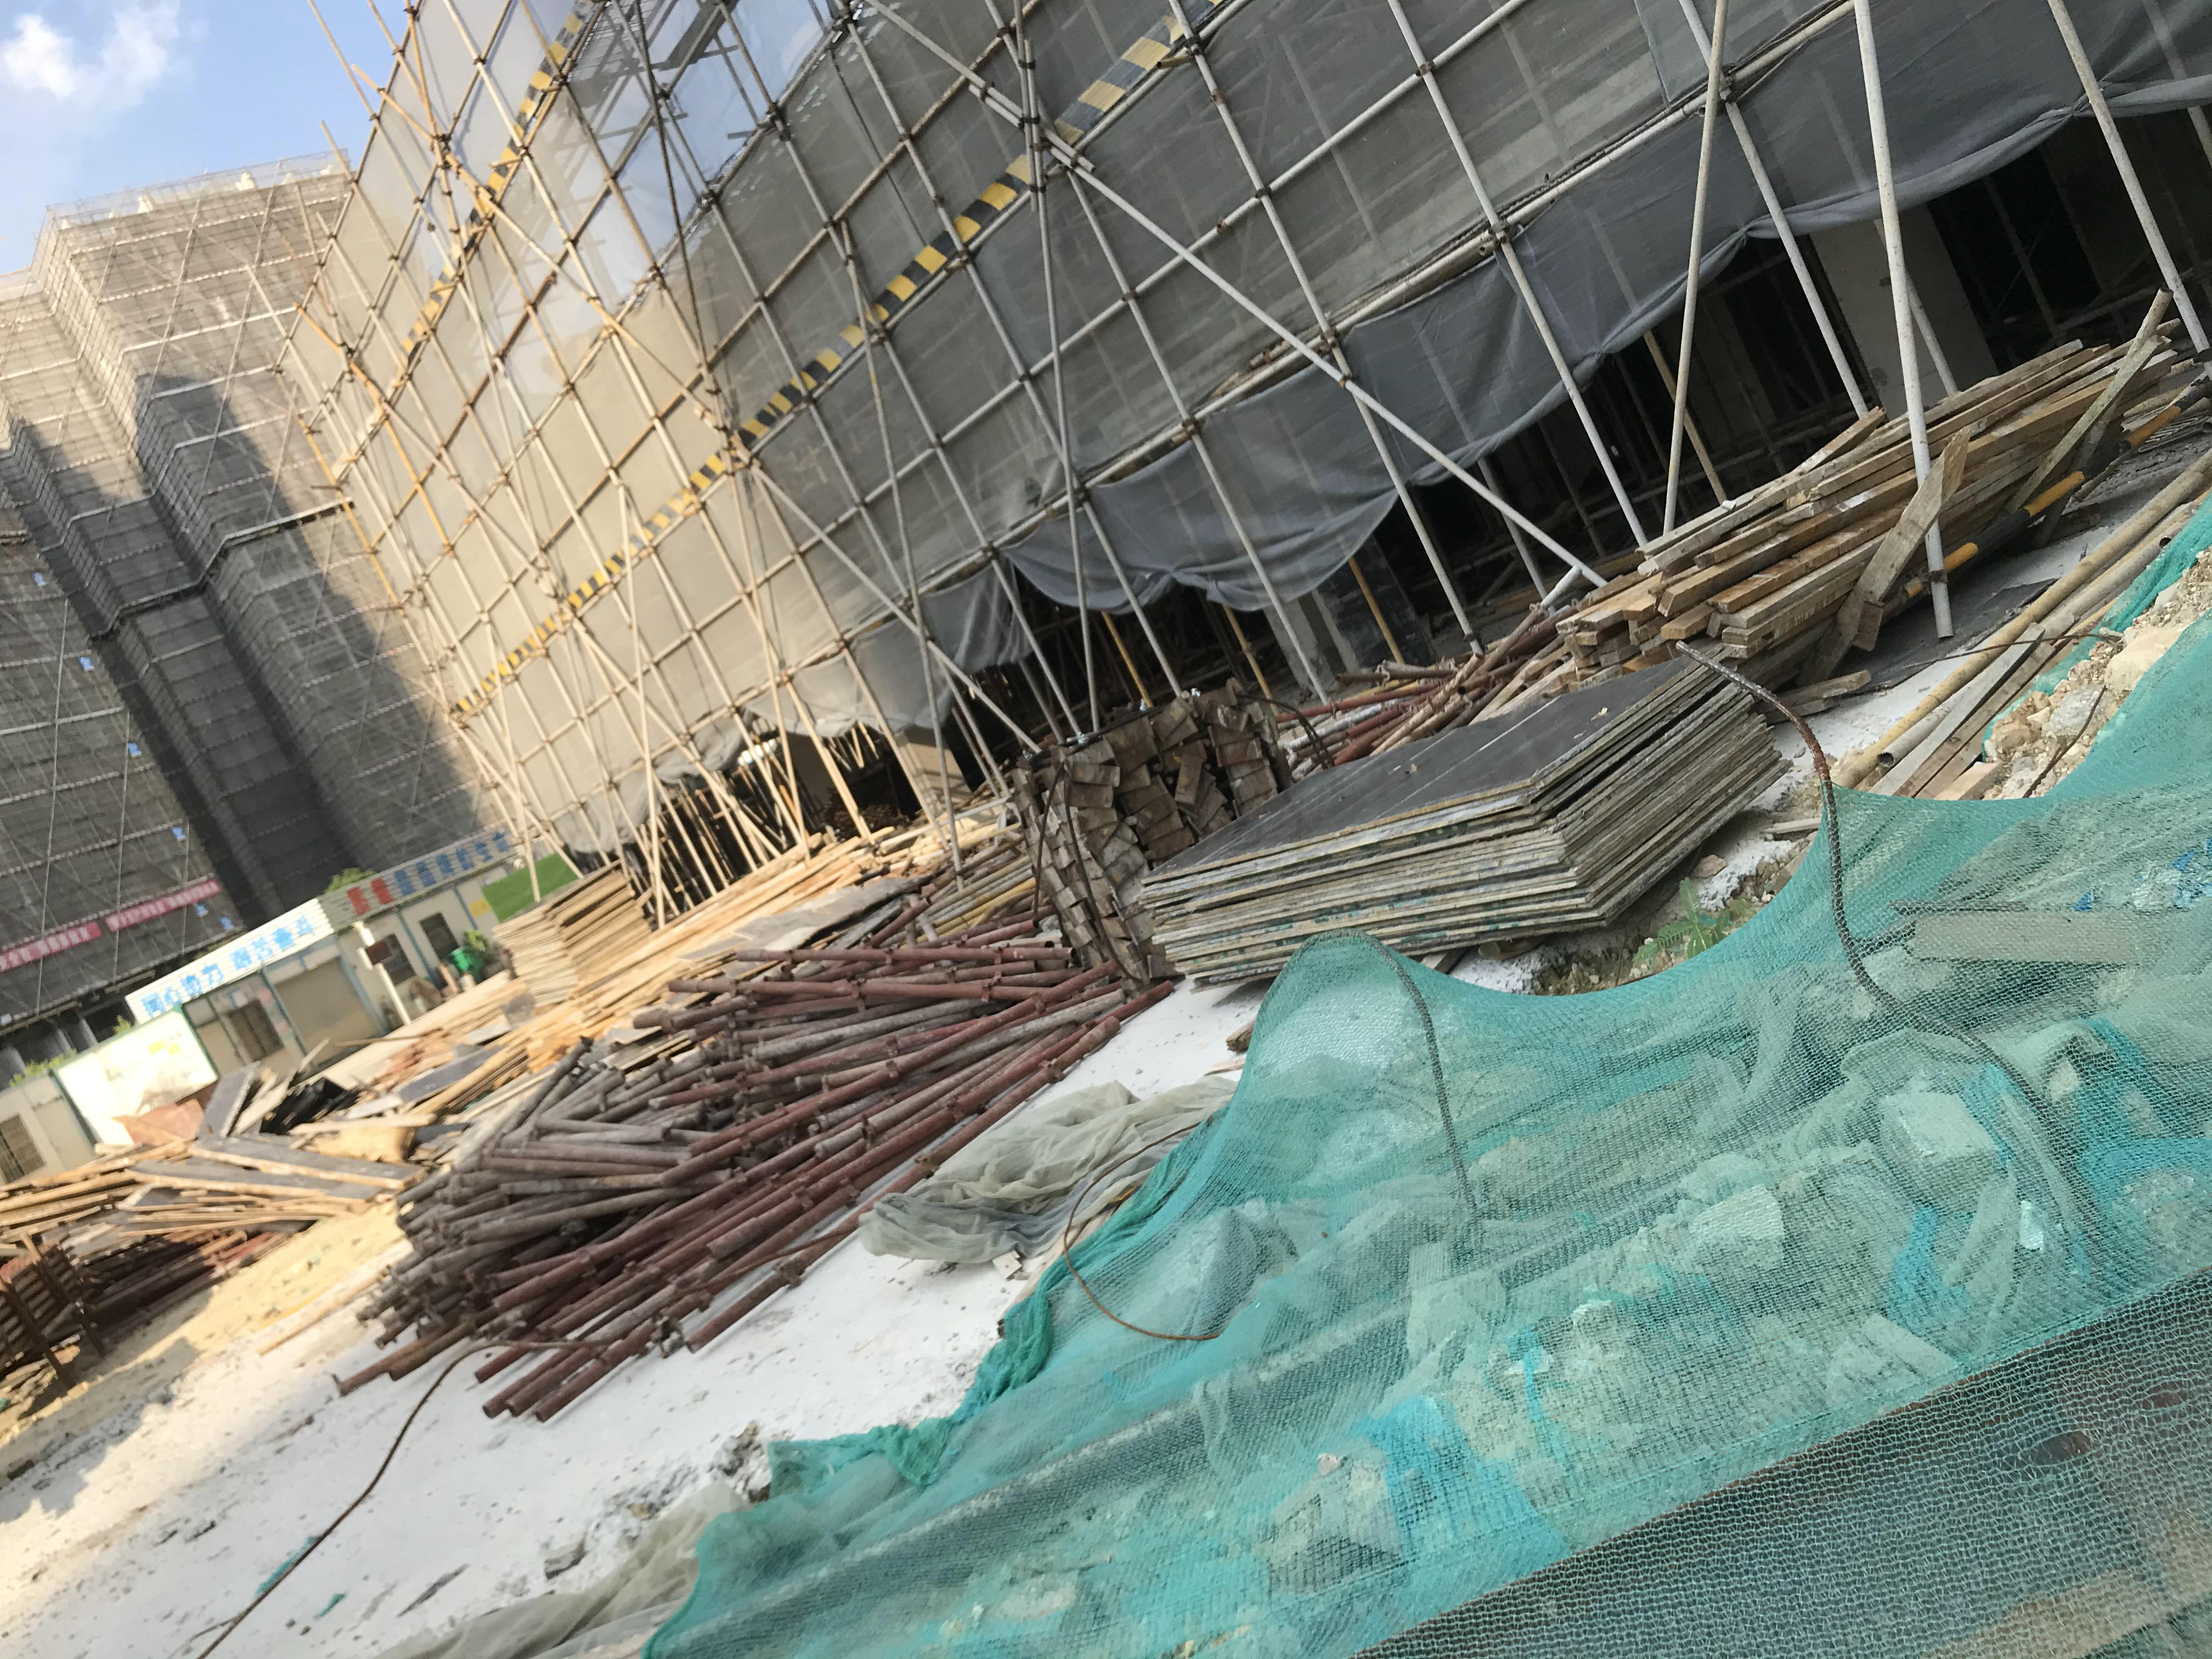board: (1127, 671, 1895, 995), (491, 857, 664, 981)
wood: (1568, 282, 2212, 695)
